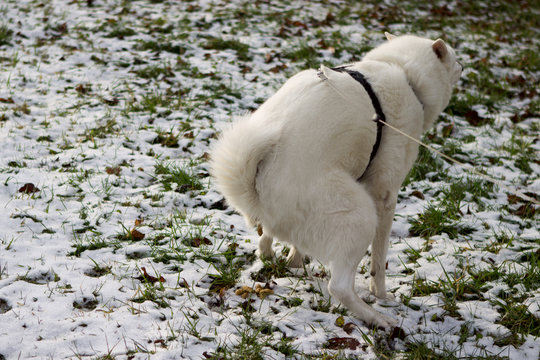dog_pooping: (205, 29, 472, 330)
